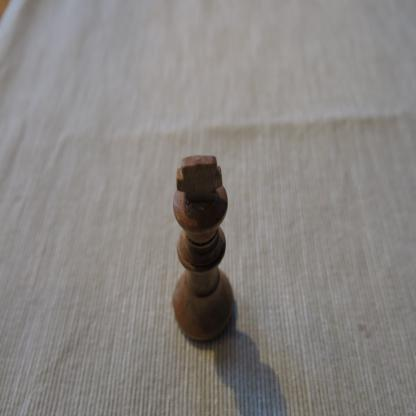white-king: (171, 154, 234, 346)
